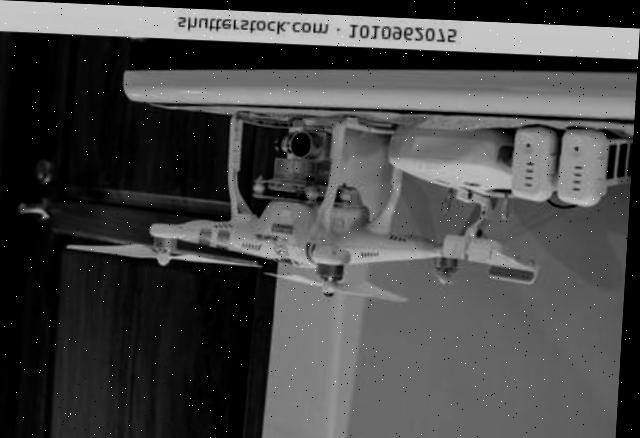drone: (0, 0, 640, 390)
